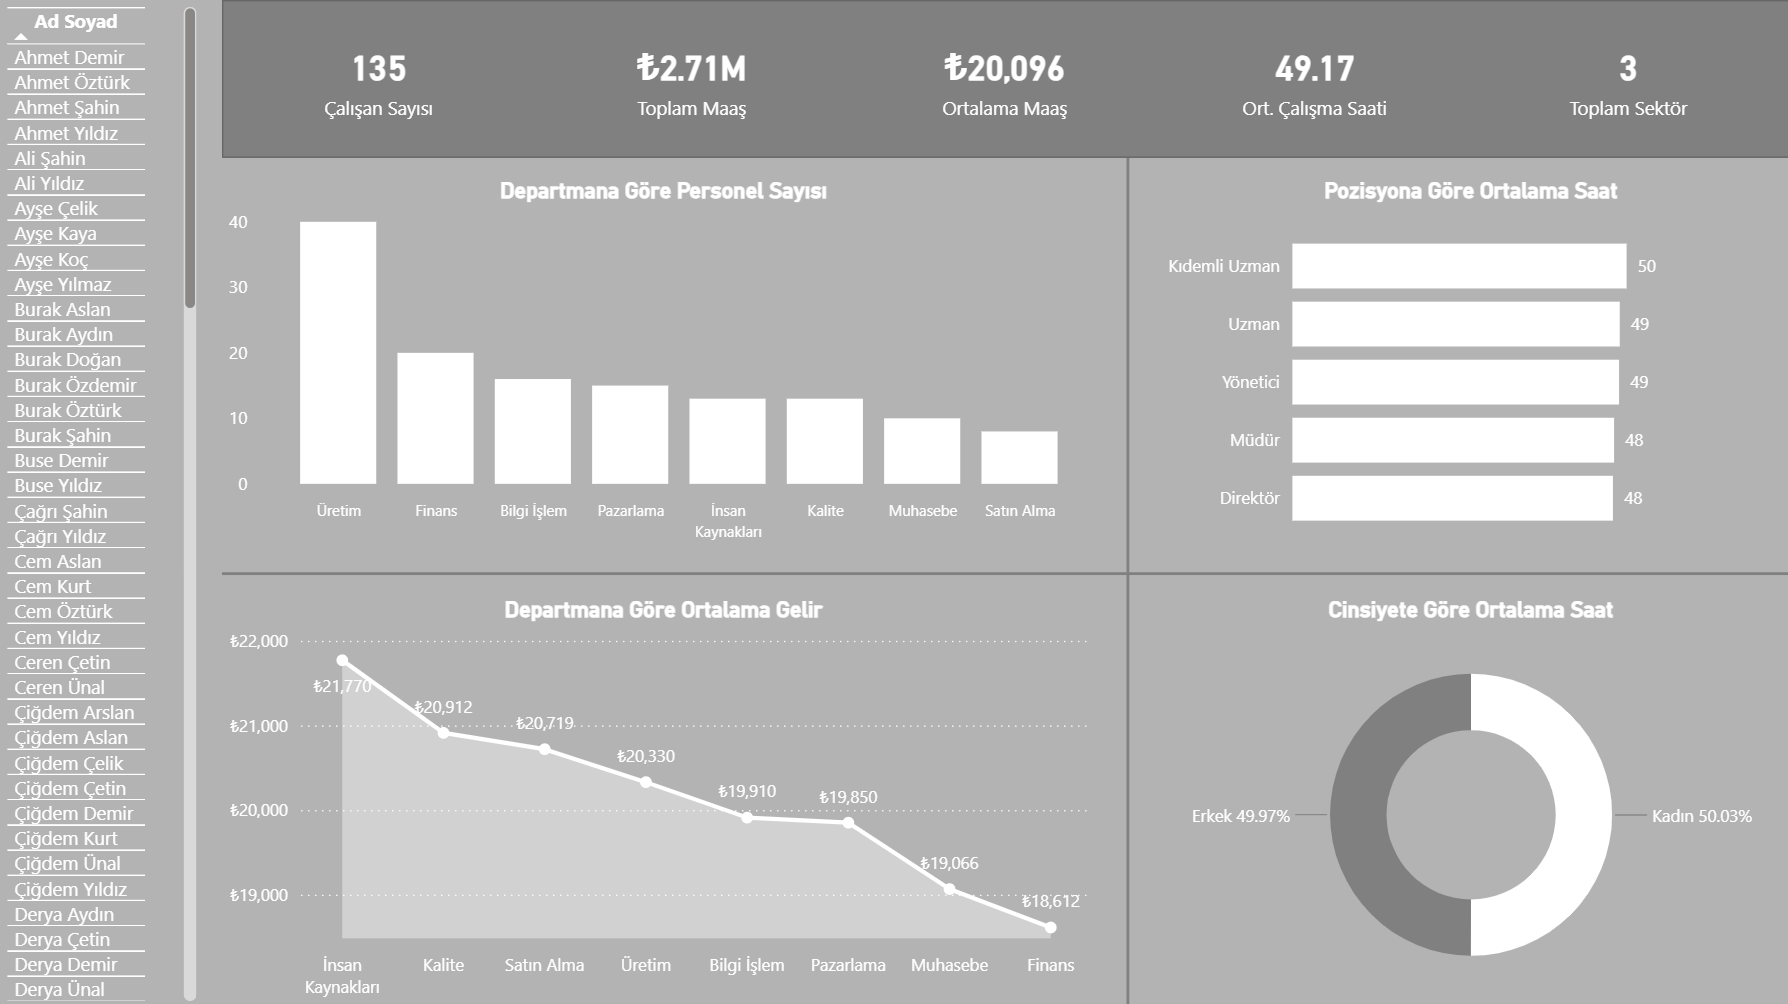

This screenshot's page, from the dashboard's own definition file:
{"tool":"powerbi","page":{"name":"1. Sayfa","canvas":[1280,720],"ordinal":0},"visuals":[{"type":"shape","box":[159.1,0,1120.9,112.7],"z":2000},{"type":"card","fields":{"Values":["Sum(Sheet1.Çalışan Sayısı)"]},"box":[159.1,0,224,112.7],"z":3000},{"type":"card","fields":{"Values":["Avg(Sheet1.Maaş)"]},"box":[606.4,0,224,112.7],"z":4000},{"type":"card","fields":{"Values":["Sum(Sheet1.Maaş)"]},"box":[382.7,0,224,112.7],"z":5000},{"type":"card","fields":{"Values":["Avg(Sheet1.Çalışma Saati)"]},"box":[828.2,0,224,112.7],"z":6000},{"type":"card","fields":{"Values":["Count(Sheet1.Sektör)"]},"box":[1051.8,0,223.6,112.7],"z":7000},{"type":"columnChart","title":"Departmana Göre Personel Sayısı","fields":{"Category":["Sheet1.Departman"],"Y":["CountNonNull(Sheet1.Departman)"]},"box":[159.1,126.4,630.9,268.2],"z":8000},{"type":"lineChart","title":"Departmana Göre Ortalama Gelir","fields":{"Category":["Sheet1.Departman"],"Y":["Avg(Sheet1.Maaş)"]},"box":[159.1,425.5,630.9,294.5],"z":9000},{"type":"tableEx","fields":{"Values":["Sheet1.İsim"]},"box":[0,0,146.4,720],"z":10000},{"type":"clusteredBarChart","title":"Pozisyona Göre Ortalama Saat","fields":{"Category":["Sheet1.Pozisyon"],"Y":["Avg(Sheet1.Çalışma Saati)"]},"box":[822.7,126.4,457.3,268.2],"z":11000},{"type":"shape","box":[159.1,394.5,1120.9,30.9],"z":13001},{"type":"shape","box":[790,112.7,32.7,607.3],"z":13002},{"type":"donutChart","title":"Cinsiyete Göre Ortalama Saat","fields":{"Category":["Sheet1.Cinsiyet"],"Y":["Avg(Sheet1.Çalışma Saati)"]},"box":[822.7,425.5,457.3,294.5],"z":13003}]}

Visuals, with their boxes in screenshot pixels (x1, y1, x2, y2), scaled from the page's 1280x720 canvas onto the 1788x1004 screenshot:
shape: detection(222, 0, 1787, 157)
card - Sum(Sheet1.Çalışan Sayısı): detection(222, 0, 535, 157)
card - Avg(Sheet1.Maaş): detection(847, 0, 1160, 157)
card - Sum(Sheet1.Maaş): detection(535, 0, 847, 157)
card - Avg(Sheet1.Çalışma Saati): detection(1157, 0, 1470, 157)
card - Count(Sheet1.Sektör): detection(1469, 0, 1782, 157)
"Departmana Göre Personel Sayısı" columnChart: detection(222, 176, 1104, 550)
"Departmana Göre Ortalama Gelir" lineChart: detection(222, 593, 1104, 1003)
tableEx - Sheet1.İsim: detection(0, 0, 205, 1003)
"Pozisyona Göre Ortalama Saat" clusteredBarChart: detection(1149, 176, 1787, 550)
shape: detection(222, 550, 1787, 593)
shape: detection(1104, 157, 1149, 1003)
"Cinsiyete Göre Ortalama Saat" donutChart: detection(1149, 593, 1787, 1003)
